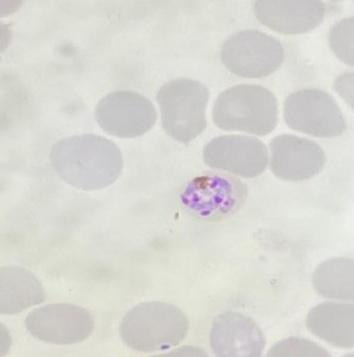Infected: (177, 170, 247, 220)
Uninfected: (52, 136, 122, 189), (120, 299, 190, 352), (209, 84, 279, 135), (283, 88, 348, 138), (157, 78, 206, 144), (218, 31, 284, 79), (23, 302, 94, 345), (95, 92, 157, 137), (203, 136, 269, 178), (271, 134, 325, 181), (208, 311, 262, 357), (0, 263, 46, 312), (308, 304, 354, 351), (312, 256, 354, 301)
